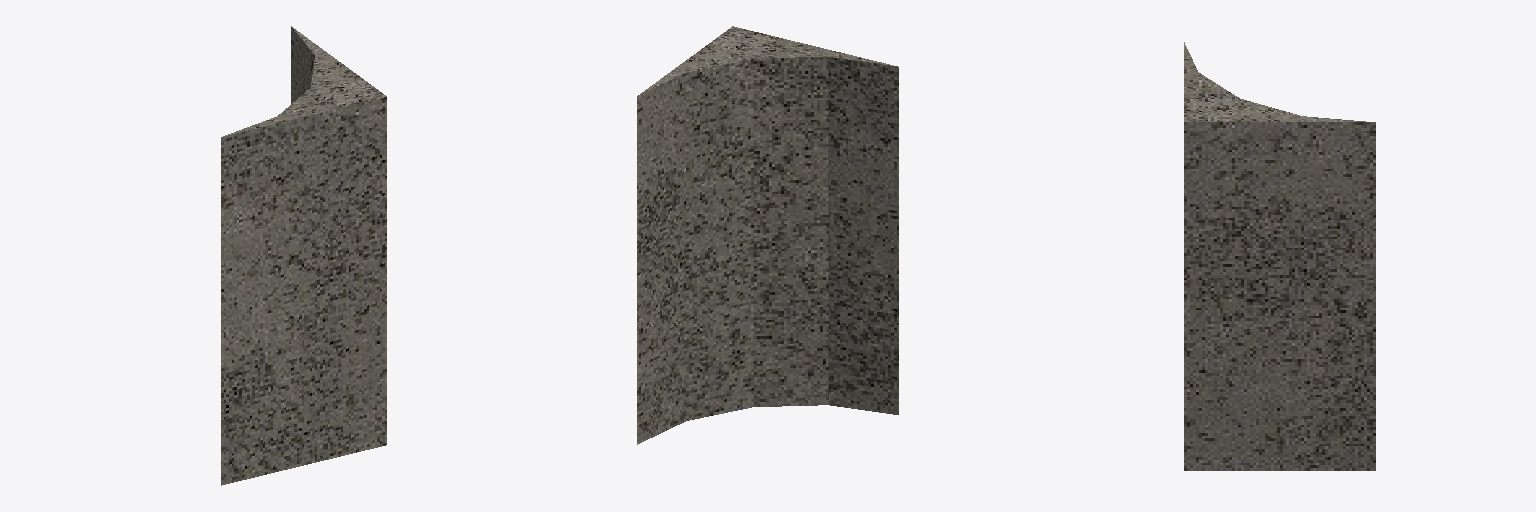
3 views of the same model, side by side, from view 1: azimuth 30°, elevation 25°; view 2: azimuth 150°, elevation 25°; view 3: azimuth 270°, elevation 25° (orthographic).
Bounding box in the file's own units: 1 × 2 × 1.
Materials: 1 (1 with a texture image).